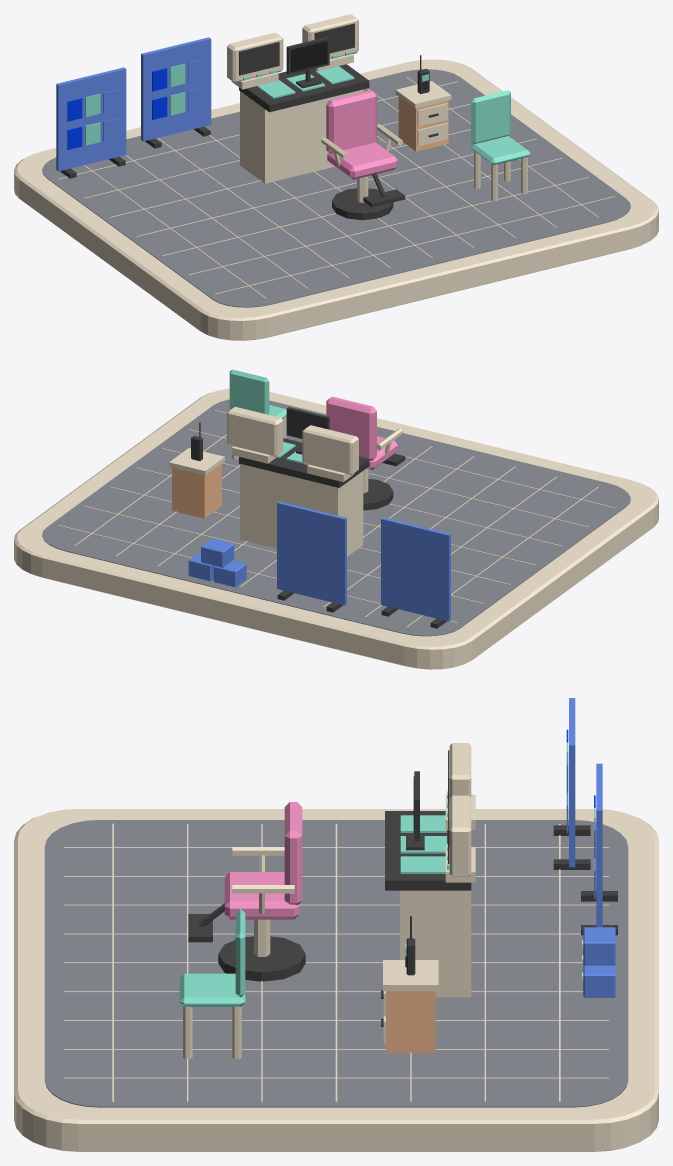
Rendered from room.fbx.
3 views of the same model, one above another, from view 1: azimuth 30°, elevation 25°; view 2: azimuth 150°, elevation 25°; view 3: azimuth 270°, elevation 25° (orthographic). The views are drawn at different scales.
Parts seen in each view (by area): view 1: COM-02 Floor Surface, COM-01 Rounded Base Direct, Console, Panel.001, Panel.002, Back, Panel, Backrest, Seat, Frame, Housing, Body (+10 smaller); view 2: COM-02 Floor Surface, COM-01 Rounded Base Direct, Panel.002, Panel.001, Console, Housing, Housing.001, Body, Back, Backrest, Panel, Frame (+5 smaller); view 3: COM-02 Floor Surface, COM-01 Rounded Base Direct, Console, Body, Panel, Base, Seat, Seat.001, Housing.001, Back, Top, Stacked case.002 (+14 smaller).
Boxes of the visible parts, x1=… form: COM-02 Floor Surface: x1=42, y1=69, x2=630, y2=307; COM-01 Rounded Base Direct: x1=14, y1=59, x2=658, y2=340; Console: x1=240, y1=89, x2=363, y2=183; Panel.001: x1=56, y1=67, x2=126, y2=171; Panel.002: x1=141, y1=37, x2=211, y2=141; Back: x1=326, y1=90, x2=376, y2=153; Panel: x1=239, y1=64, x2=369, y2=112; Backrest: x1=471, y1=90, x2=510, y2=144; Seat: x1=327, y1=142, x2=397, y2=179; Frame: x1=286, y1=37, x2=329, y2=88; Housing: x1=227, y1=32, x2=283, y2=82; Body: x1=398, y1=96, x2=448, y2=151; COM-02 Floor Surface: x1=42, y1=399, x2=630, y2=636; COM-01 Rounded Base Direct: x1=14, y1=388, x2=658, y2=669; Panel.002: x1=277, y1=501, x2=346, y2=605; Panel.001: x1=381, y1=517, x2=450, y2=621; Console: x1=240, y1=464, x2=363, y2=556; Housing: x1=302, y1=425, x2=358, y2=475; Housing.001: x1=227, y1=406, x2=283, y2=456; Body: x1=172, y1=463, x2=221, y2=518; Back: x1=326, y1=396, x2=376, y2=460; Backrest: x1=229, y1=369, x2=269, y2=414; Panel: x1=239, y1=438, x2=369, y2=488; Frame: x1=286, y1=407, x2=329, y2=454; COM-02 Floor Surface: x1=44, y1=820, x2=628, y2=1107; COM-01 Rounded Base Direct: x1=14, y1=809, x2=658, y2=1151; Console: x1=400, y1=890, x2=471, y2=997; Body: x1=386, y1=991, x2=435, y2=1053; Panel: x1=385, y1=811, x2=471, y2=890; Base: x1=218, y1=936, x2=305, y2=981; Seat: x1=224, y1=872, x2=299, y2=919; Seat.001: x1=179, y1=973, x2=245, y2=1006; Housing.001: x1=449, y1=795, x2=471, y2=876; Back: x1=284, y1=802, x2=302, y2=905; Top: x1=383, y1=960, x2=438, y2=991; Stacked case.002: x1=583, y1=927, x2=615, y2=965.
Bounding box in the file's own units: 600 × 188 × 520.
